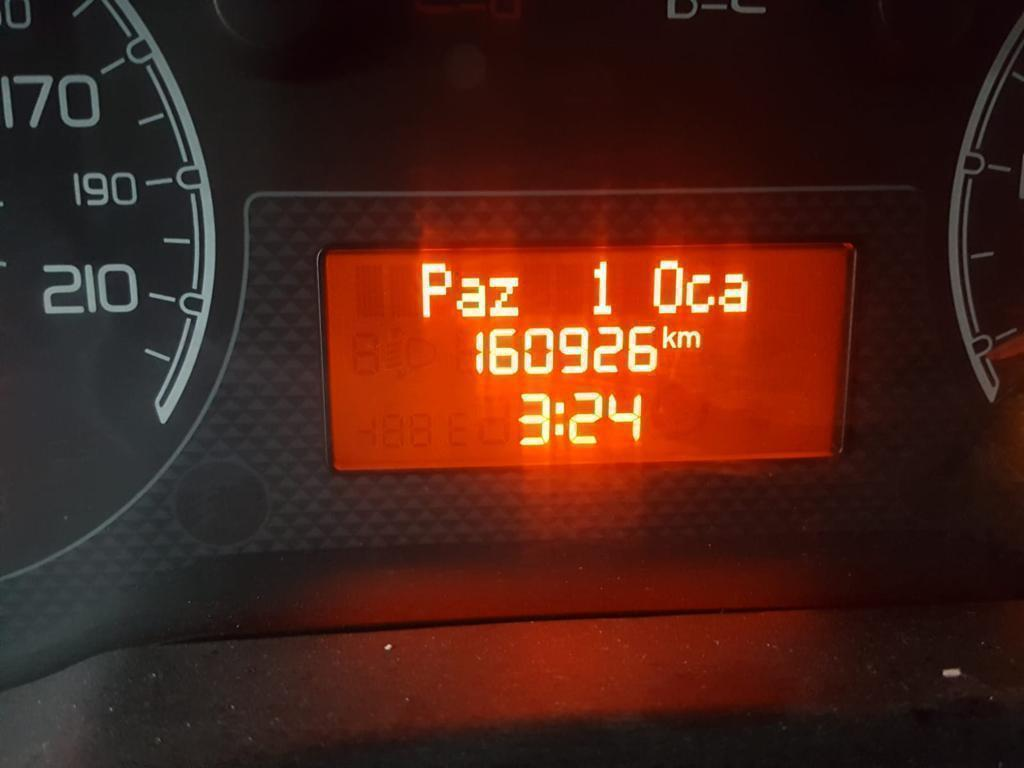0: (523, 324, 554, 375)
1: (590, 252, 617, 319), (471, 327, 484, 380)
2: (568, 389, 602, 449), (594, 324, 623, 377)
3: (519, 392, 550, 447)
4: (608, 391, 644, 442)
6: (488, 325, 519, 376), (628, 324, 657, 375)
9: (558, 326, 589, 375)
X: (420, 260, 452, 320), (652, 257, 684, 314), (488, 273, 520, 316), (456, 274, 486, 318), (686, 271, 716, 314), (720, 271, 749, 315), (552, 397, 564, 441), (677, 328, 700, 348), (662, 323, 676, 348)
odometer: (315, 238, 860, 473)
